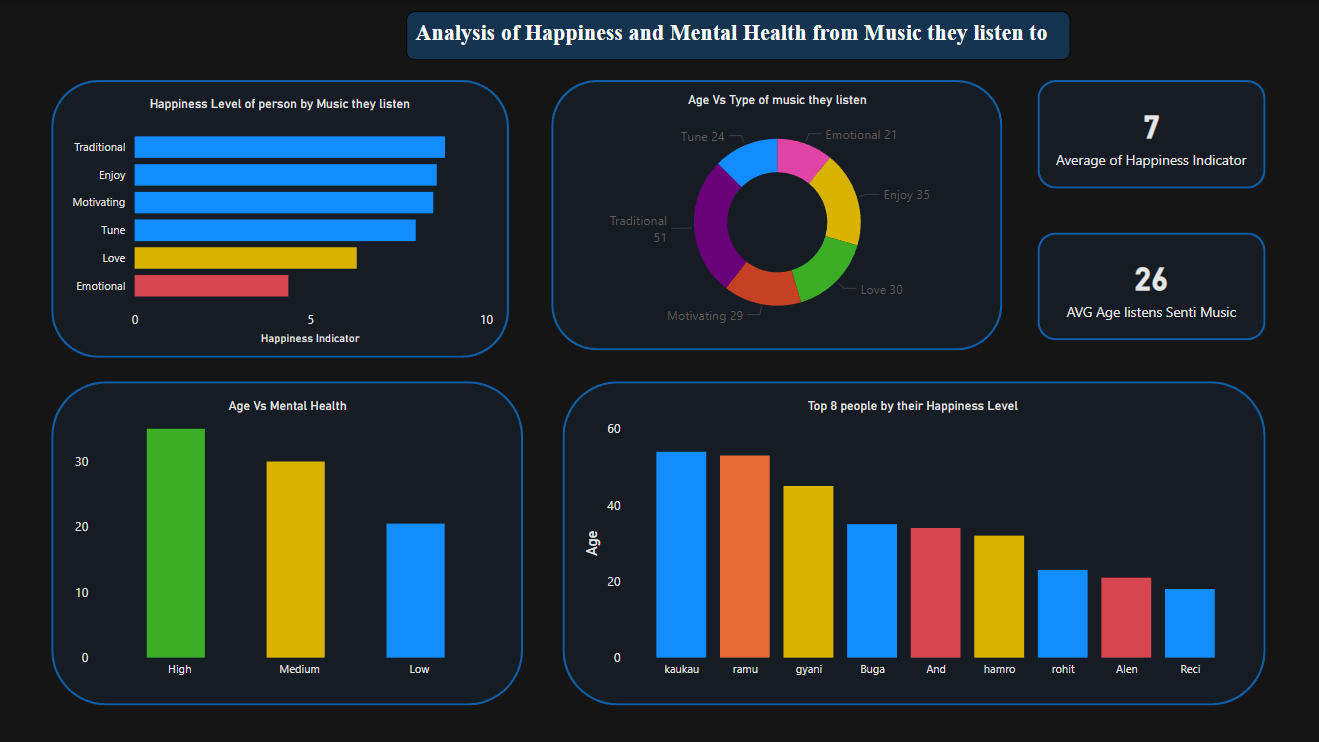

The dashboard page shown, as its layout file describes it:
{"tool":"powerbi","page":{"name":"Page 1","canvas":[1280,720],"ordinal":0},"visuals":[{"type":"textbox","box":[385.9,14.6,633.8,35],"z":0},{"type":"shape","box":[54.4,76.8,441.3,268.3],"z":1000},{"type":"shape","box":[536.6,76.8,435.5,260.5],"z":2000},{"type":"shape","box":[54.4,367.4,454.9,313],"z":3000},{"type":"shape","box":[547.3,367.4,678.5,313],"z":4000},{"type":"shape","box":[1006.1,224.5,219.7,104],"z":5000},{"type":"shape","box":[1006.1,76.8,219.7,105],"z":6000},{"type":"barChart","title":"Happiness Level of person by Music they listen","fields":{"Category":["working data + cleaning.Genre"],"Y":["Avg(working data + cleaning.Happiness Level(1-10))"]},"box":[64.2,93.3,421.9,244],"z":7000},{"type":"donutChart","title":"Age Vs Type of music they listen","fields":{"Series":["working data + cleaning.Genre"],"Y":["Avg(working data + cleaning.Age)"]},"box":[553.1,89.4,402.4,235.2],"z":8000},{"type":"columnChart","title":"Age Vs Mental Health","fields":{"Category":["working data + cleaning.Mental Health"],"Y":["Avg(working data + cleaning.Age)"]},"box":[71.9,384.9,419.9,278],"z":9000},{"type":"columnChart","title":"Top 8 people by their Happiness Level","fields":{"Category":["working data + cleaning.FirstName"],"Y":["Avg(working data + cleaning.Age)"]},"box":[563.8,384.9,644.5,278],"z":10000},{"type":"card","fields":{"Values":["Avg(working data + cleaning.Happiness Indicator)"]},"box":[1006.1,77.8,219.7,104],"z":11000},{"type":"card","fields":{"Values":["Avg(working data + cleaning.Age)"]},"box":[1006.1,224.5,219.7,104],"z":12000}]}

Visuals, with their boxes in screenshot pixels (x1, y1, x2, y2), scaled from the page's 1280x720 canvas onto the 1319x742 screenshot:
textbox: bbox=[398, 15, 1051, 51]
shape: bbox=[56, 79, 511, 356]
shape: bbox=[553, 79, 1002, 348]
shape: bbox=[56, 379, 525, 701]
shape: bbox=[564, 379, 1263, 701]
shape: bbox=[1037, 231, 1263, 339]
shape: bbox=[1037, 79, 1263, 187]
"Happiness Level of person by Music they listen" barChart: bbox=[66, 96, 501, 348]
"Age Vs Type of music they listen" donutChart: bbox=[570, 92, 985, 335]
"Age Vs Mental Health" columnChart: bbox=[74, 397, 507, 683]
"Top 8 people by their Happiness Level" columnChart: bbox=[581, 397, 1245, 683]
card - Avg(working data + cleaning.Happiness Indicator): bbox=[1037, 80, 1263, 187]
card - Avg(working data + cleaning.Age): bbox=[1037, 231, 1263, 339]
